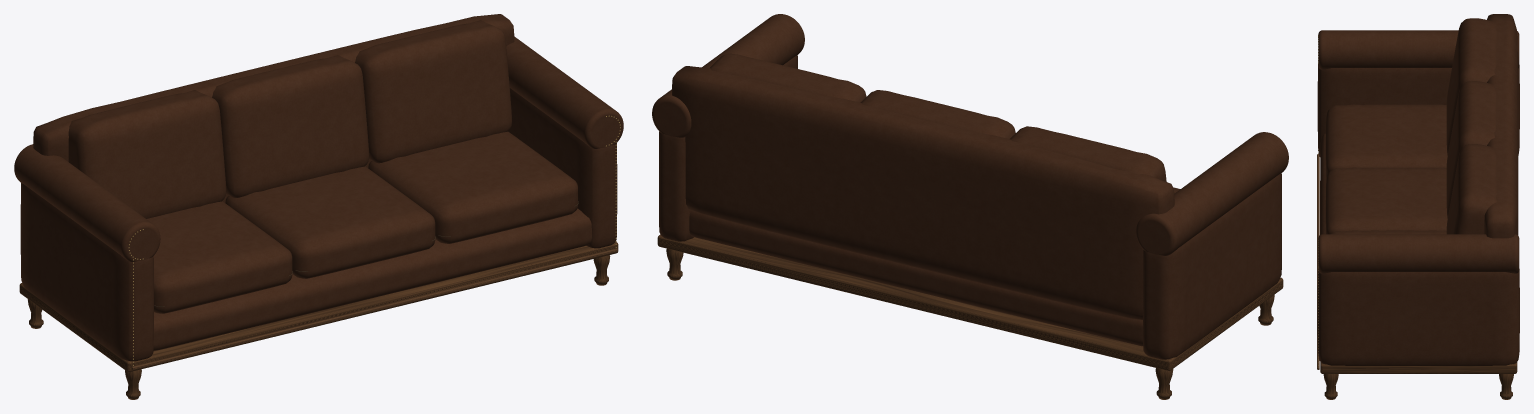
The model's file is dark_academia_sofa_3_lugares.glb.
3 renders of one model, left to right at view 1: azimuth 30°, elevation 25°; view 2: azimuth 150°, elevation 25°; view 3: azimuth 270°, elevation 25°, orthographic. The views are drawn at different scales.
Parts seen in each view (by area): view 1: sofa_3_lugares; view 2: sofa_3_lugares; view 3: sofa_3_lugares.
Part boxes in pixels (left/top/right/bottom): sofa_3_lugares: left=14, top=14, right=623, bottom=399; sofa_3_lugares: left=652, top=14, right=1288, bottom=399; sofa_3_lugares: left=1317, top=14, right=1519, bottom=399.
Size of the model in its own units: 2.18 by 0.8674 by 0.8443.
5 materials, 3 textured.
